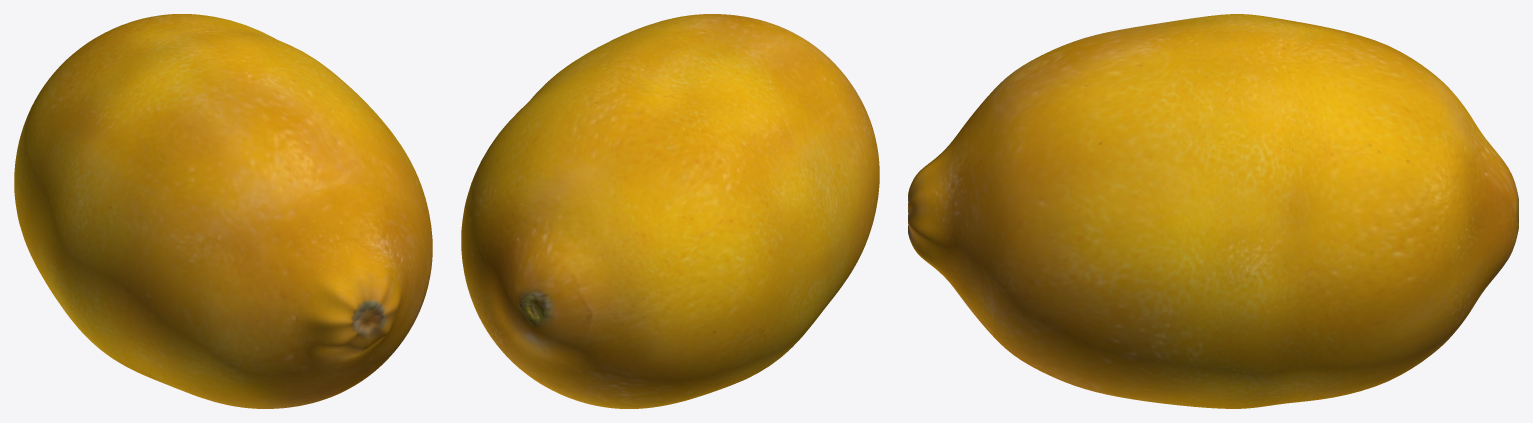
The model's file is lemon.obj.
3 views of the same model, side by side, from view 1: azimuth 30°, elevation 25°; view 2: azimuth 150°, elevation 25°; view 3: azimuth 270°, elevation 25° (orthographic). The views are drawn at different scales.
Visible parts, largest first — view 1: 10186_Lemon; view 2: 10186_Lemon; view 3: 10186_Lemon.
Part boxes in pixels (x1,y1,x2,y2): 10186_Lemon: [14, 14, 432, 408]; 10186_Lemon: [461, 14, 879, 408]; 10186_Lemon: [908, 14, 1518, 408].
Bounding box in the file's own units: 0.0758 × 0.0757 × 0.1171.
Materials: 1 (1 with a texture image).
